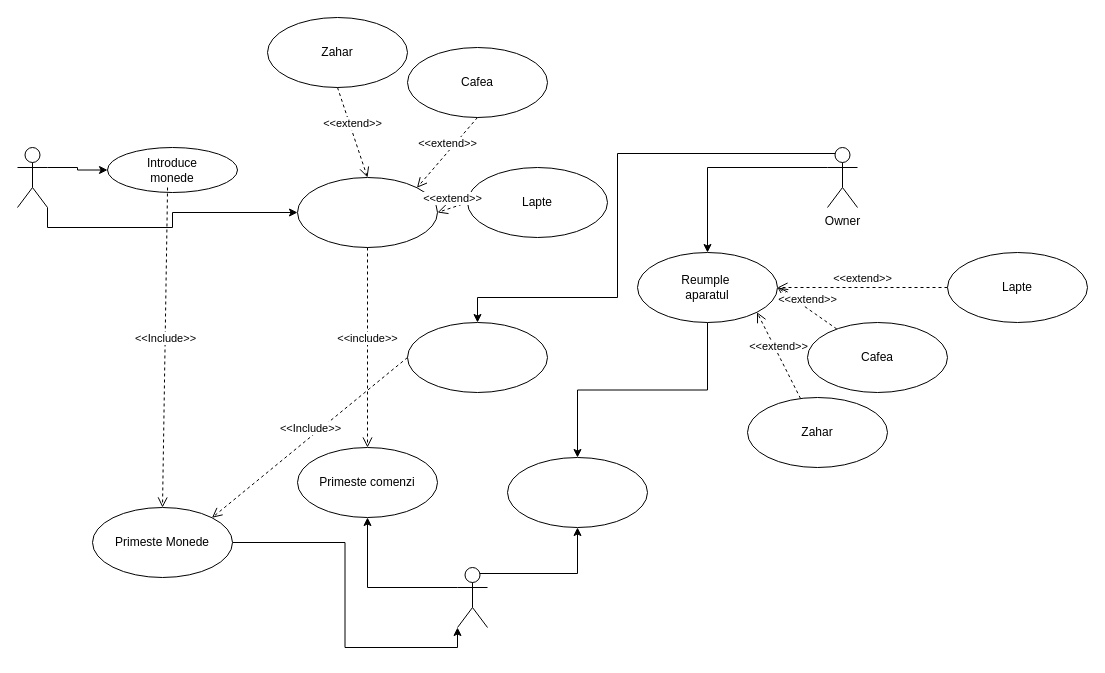
Some shapes in this 1105 by 673 pixel diagram are drawn without their labels. The box of each missing label's shape, as (x1, y1, x2, y2) in pixels:
Aparat de cafea: (456, 566, 488, 628)
coloecteaza monezi: (406, 322, 548, 392)
Ofera comenzi: (296, 176, 438, 248)
Primeste Materii Prime: (506, 456, 648, 528)
User: (16, 146, 48, 208)
